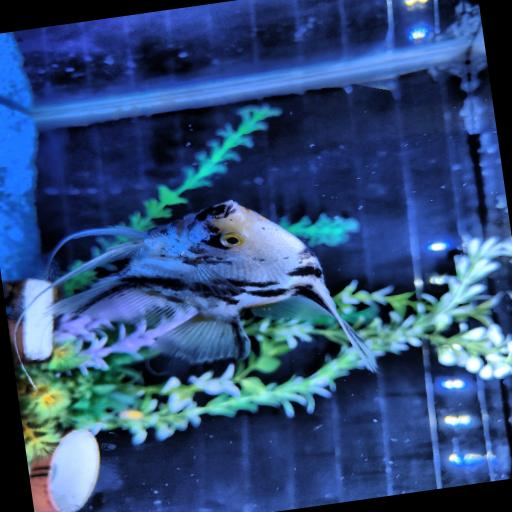Fish: (50, 201, 375, 370)
